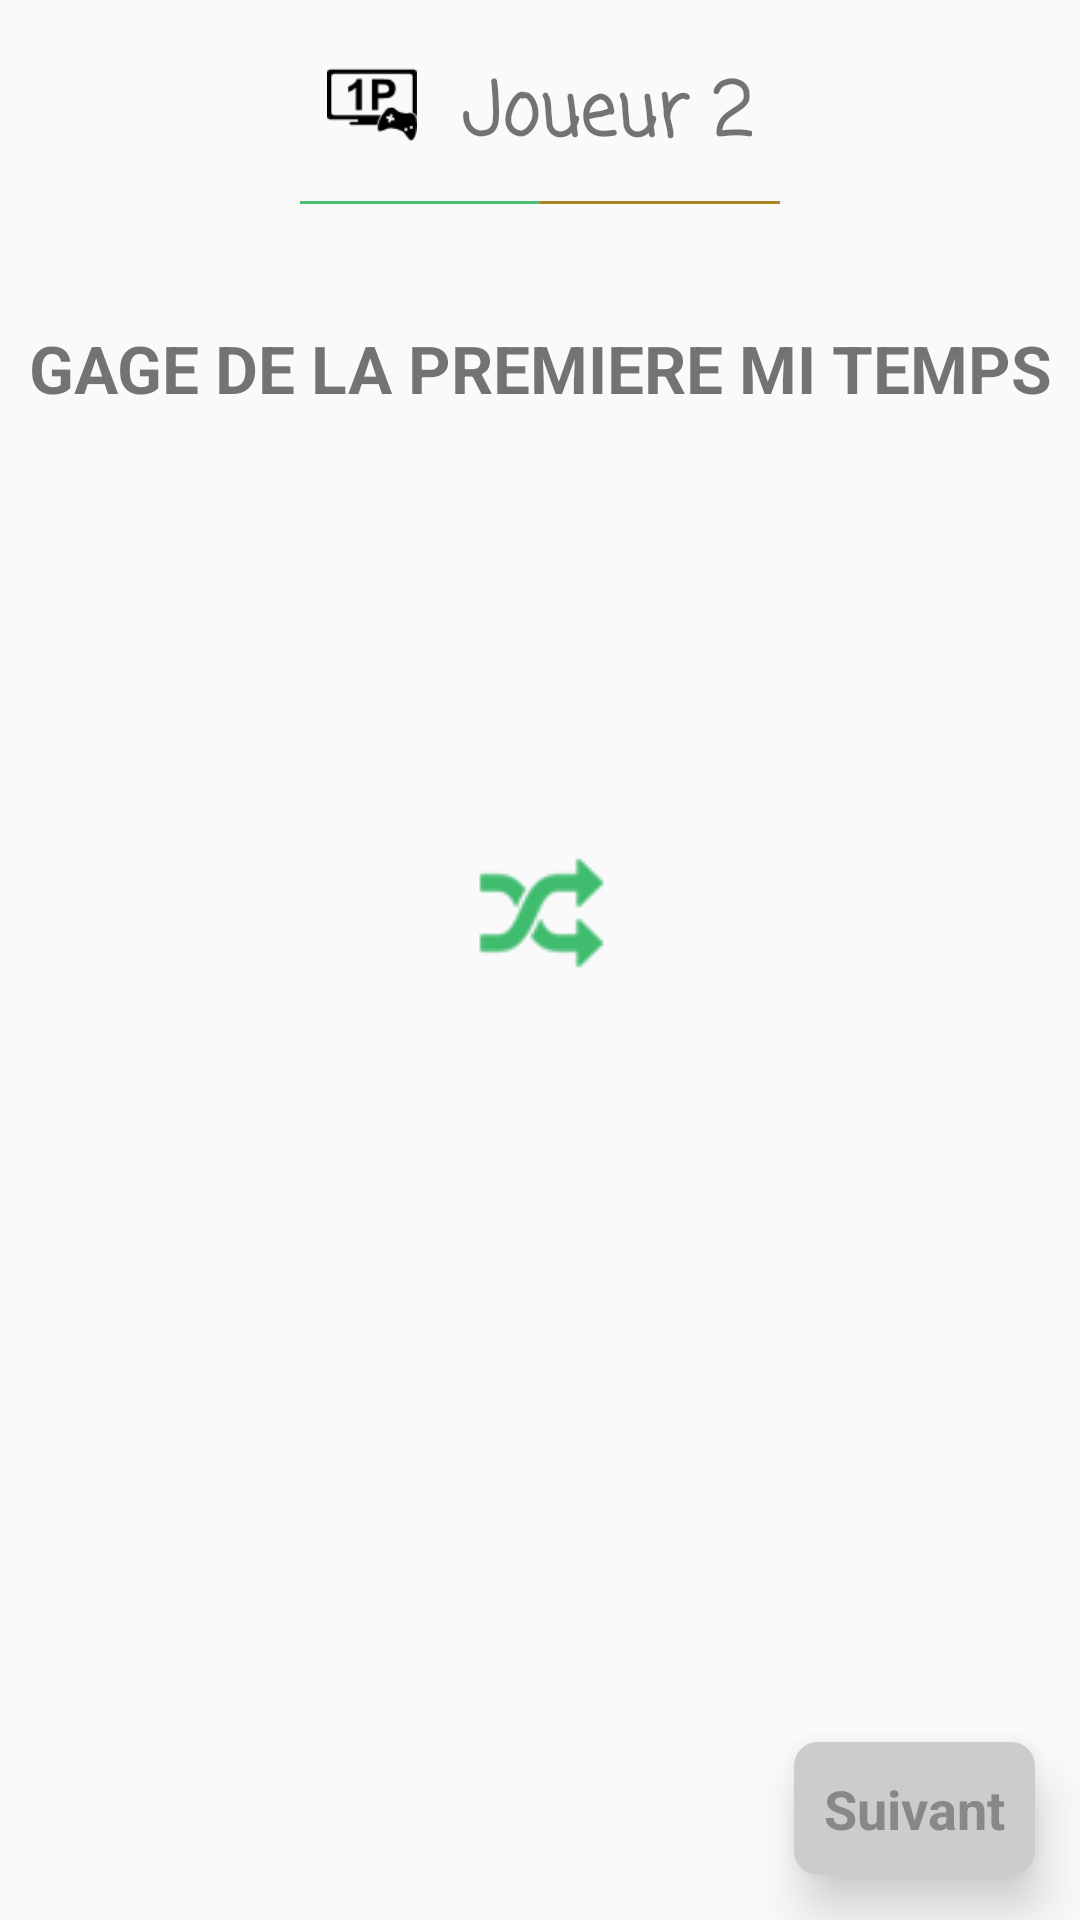

Locate icon controls on the screen. Image size 1080px×1920px, boxes as (x1, y1, x2, y2).
one player game: (327, 68, 417, 141)
roll: (479, 858, 604, 968)
